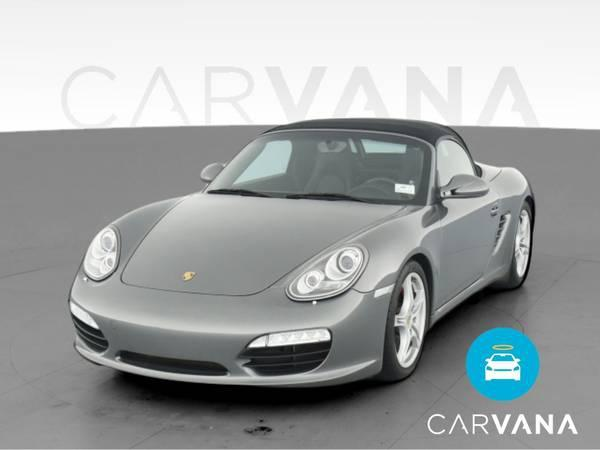Front_Bumper: (68, 268, 392, 392)
Front_Fender: (346, 203, 440, 323)
Front_Left_Door: (436, 177, 501, 320), (492, 167, 534, 279)
Front_Left_Window: (436, 141, 479, 202)
Front_Windshield: (203, 132, 432, 207)
Hood: (109, 195, 405, 301)
Left_Headlight: (281, 244, 365, 305)
Right_Headlight: (81, 226, 119, 283)
Roof: (262, 116, 483, 205)
Wheel: (387, 263, 433, 376), (514, 207, 535, 282)
